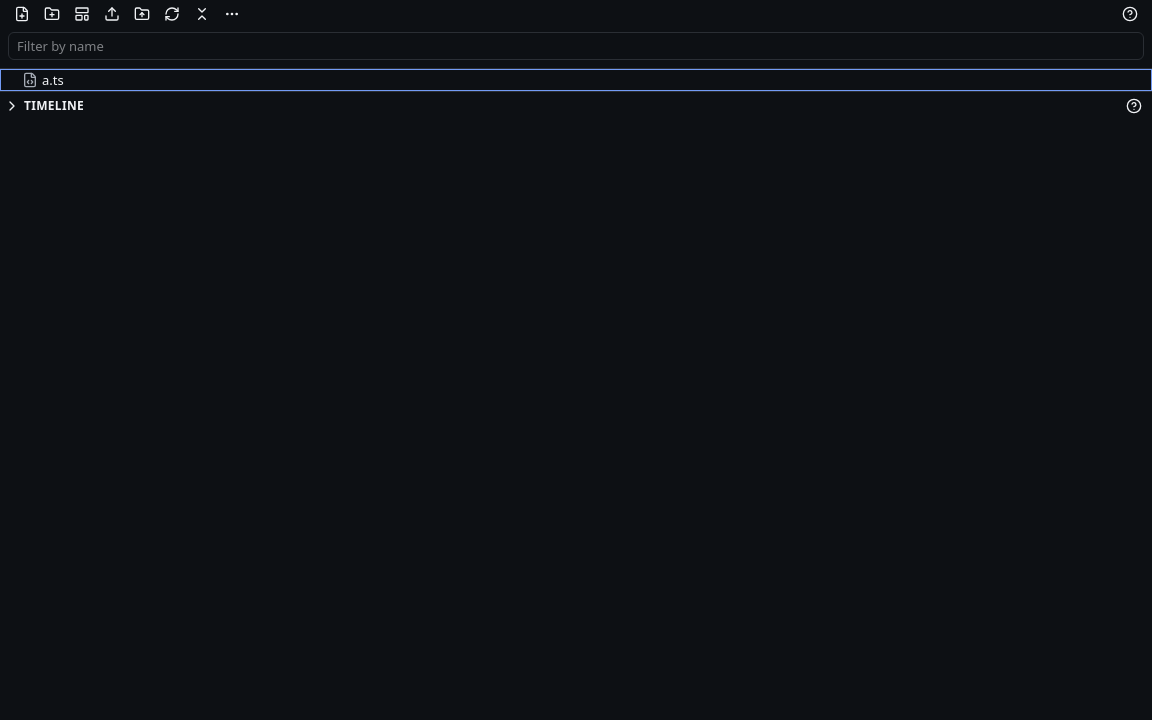
Scenario: every dialog of the Explorer closes on Esc, with nothing sent › the second step asked for a name in place, closed with Esc
Type keys "{Alt>}n{/Alt}"
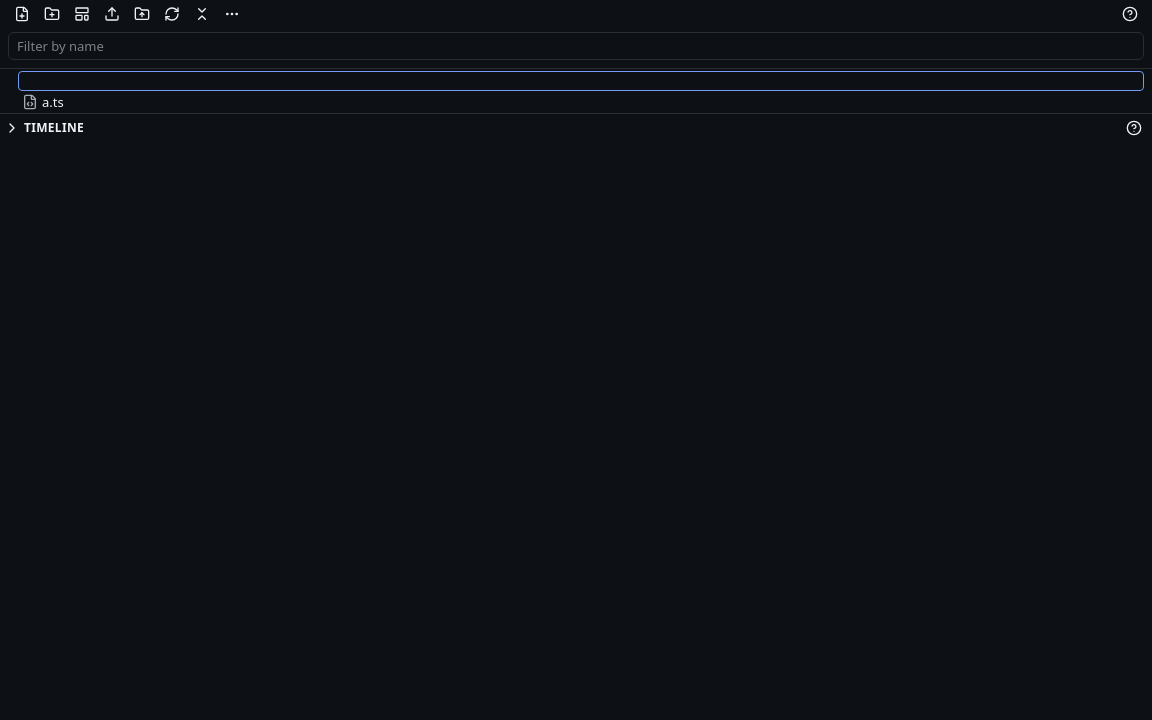
Type ".mcp.json" into the field at (581, 81), box [18, 71, 1144, 91]
Then press Enter
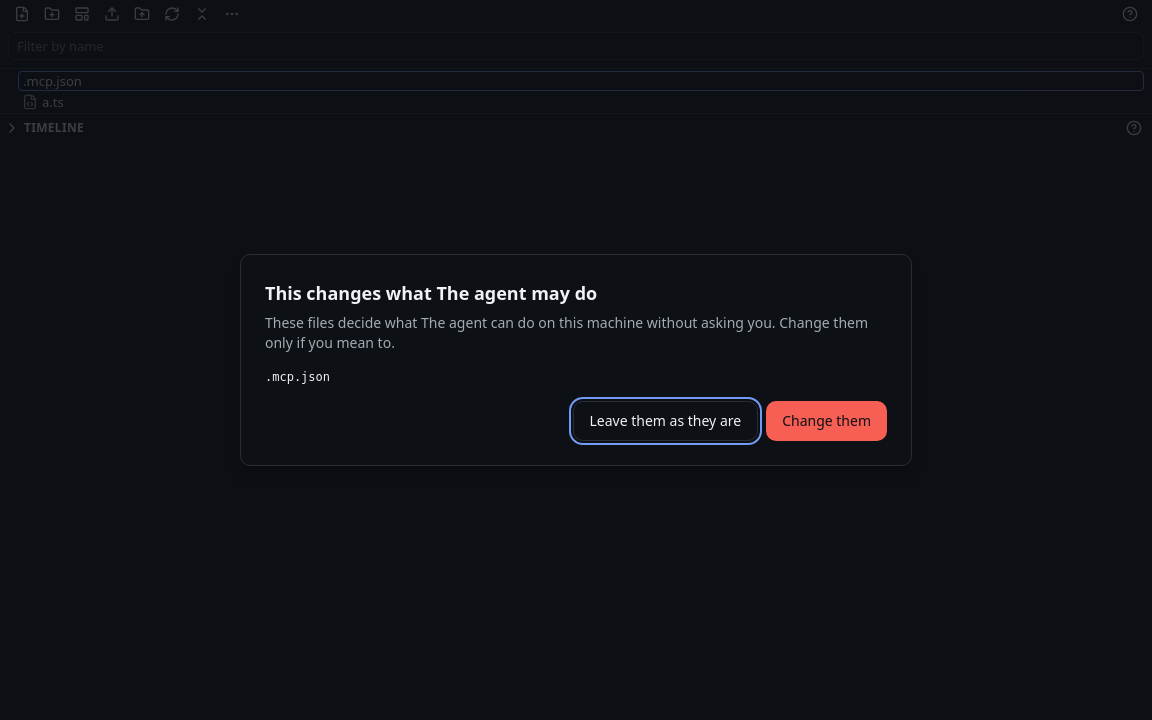
Press Escape
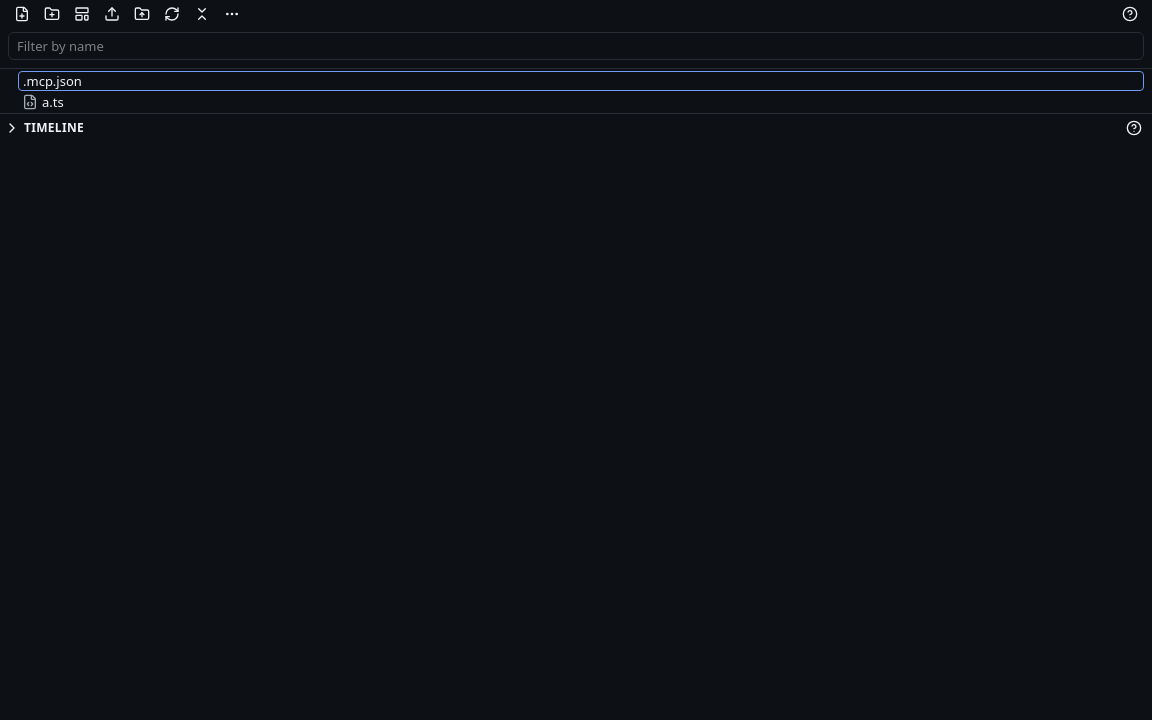
expect the dialog is gone: met
